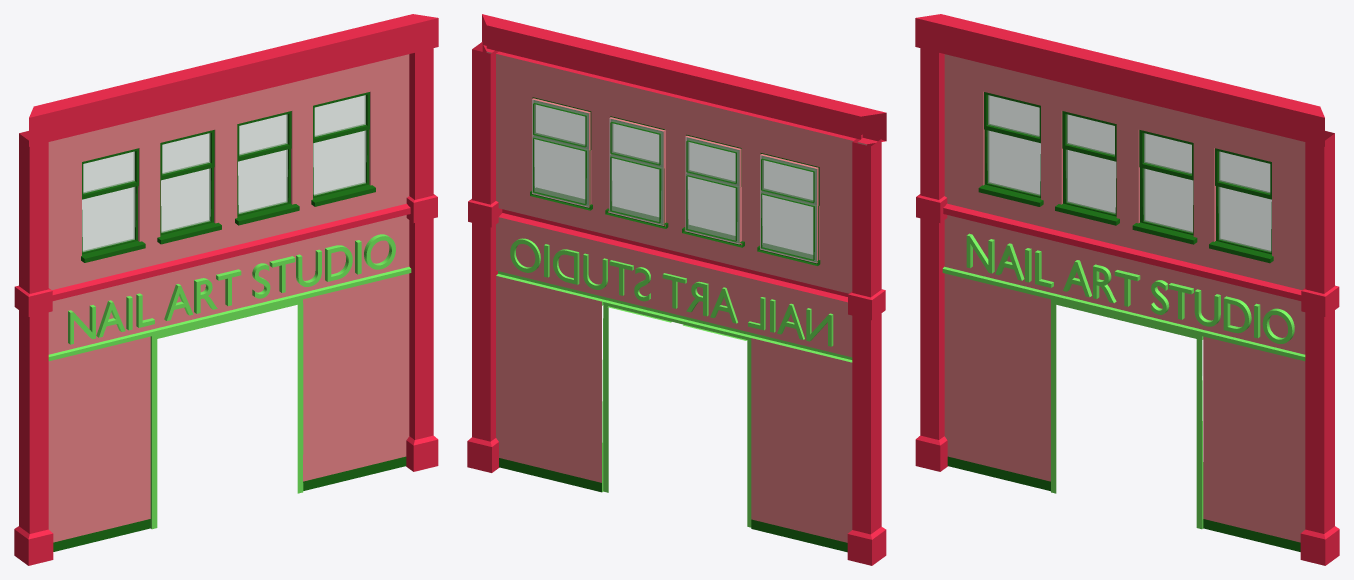
3 views of the same model, side by side, from view 1: azimuth 30°, elevation 25°; view 2: azimuth 150°, elevation 25°; view 3: azimuth 330°, elevation 25° (orthographic).
Parts seen in each view (by area): view 1: Cube_Cube.003_açıkpink, Cube_Cube.003_pinkkkk, Cube_Cube.003_window_glass, Cube_Cube.003_Material.001, Cube_Cube.003_yeşil; view 2: Cube_Cube.003_açıkpink, Cube_Cube.003_pinkkkk, Cube_Cube.003_window_glass, Cube_Cube.003_Material.001, Cube_Cube.003_yeşil; view 3: Cube_Cube.003_açıkpink, Cube_Cube.003_pinkkkk, Cube_Cube.003_window_glass, Cube_Cube.003_Material.001, Cube_Cube.003_yeşil.
Boxes of the visible parts, bbox=[...] form: Cube_Cube.003_açıkpink: bbox=[48, 54, 409, 542]; Cube_Cube.003_pinkkkk: bbox=[14, 14, 438, 565]; Cube_Cube.003_window_glass: bbox=[82, 95, 366, 251]; Cube_Cube.003_Material.001: bbox=[48, 234, 411, 529]; Cube_Cube.003_yeşil: bbox=[53, 92, 406, 551]; Cube_Cube.003_açıkpink: bbox=[486, 51, 866, 542]; Cube_Cube.003_pinkkkk: bbox=[467, 14, 886, 565]; Cube_Cube.003_window_glass: bbox=[532, 99, 816, 263]; Cube_Cube.003_Material.001: bbox=[496, 238, 852, 527]; Cube_Cube.003_yeşil: bbox=[499, 97, 847, 552]; Cube_Cube.003_açıkpink: bbox=[944, 54, 1305, 542]; Cube_Cube.003_pinkkkk: bbox=[915, 14, 1339, 565]; Cube_Cube.003_window_glass: bbox=[987, 95, 1271, 251]; Cube_Cube.003_Material.001: bbox=[942, 233, 1305, 529]; Cube_Cube.003_yeşil: bbox=[947, 92, 1300, 551].
Bounding box in the file's own units: 132 × 138 × 8.22.
